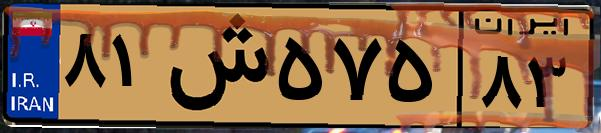1: (110, 28, 158, 98)
3: (525, 38, 570, 115)
5: (270, 28, 330, 110), (385, 28, 445, 110)
7: (330, 28, 385, 110)
8: (57, 26, 110, 100), (475, 38, 525, 113)
ش: (158, 12, 270, 120)
